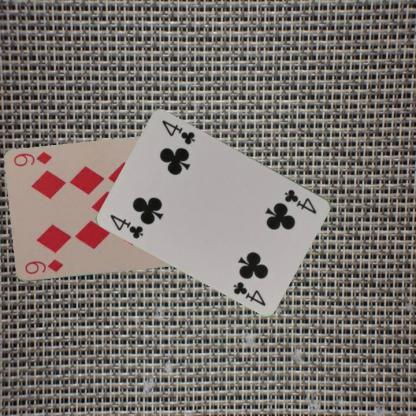4c: (107, 211, 145, 240), (282, 186, 318, 216)
9d: (22, 257, 65, 276)
